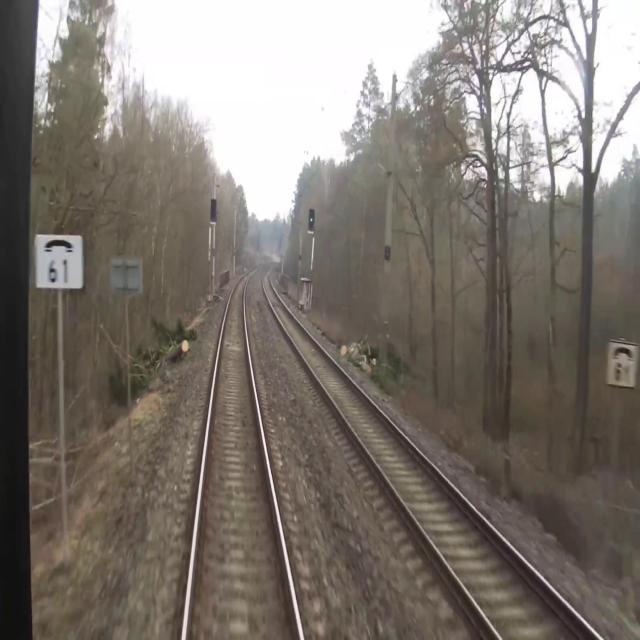rail-track: (263, 263, 597, 639), (186, 268, 299, 639)
